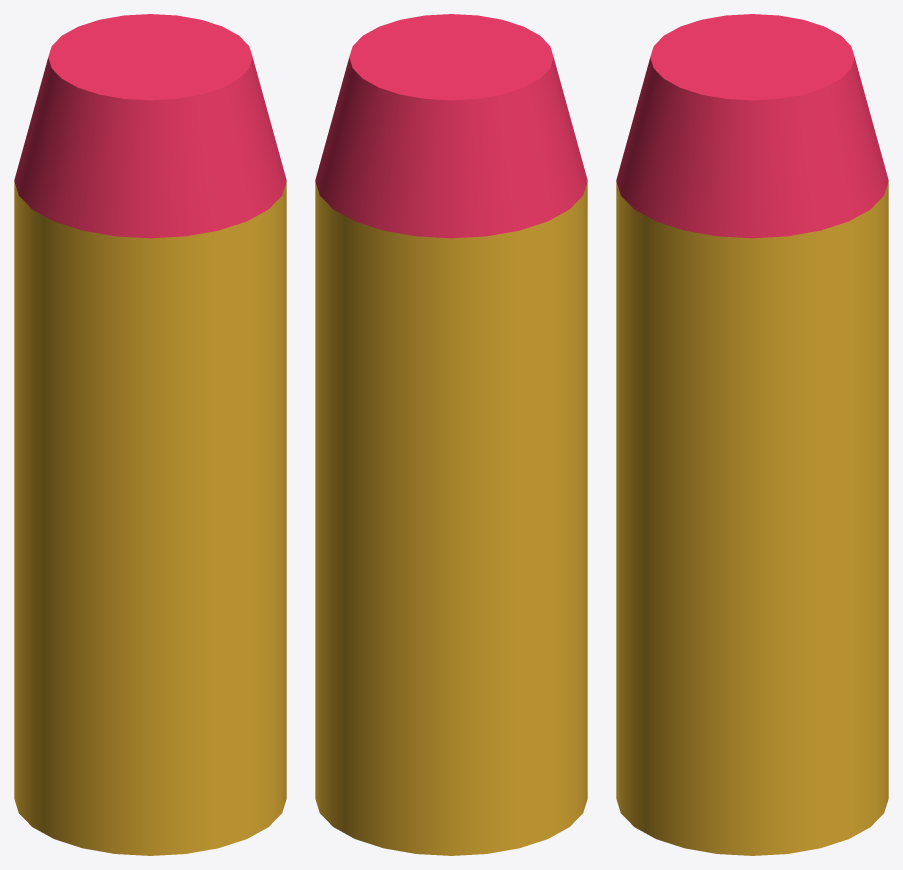
Rendered from foamBulletB.obj.
3 renders of one model, left to right at view 1: azimuth 30°, elevation 25°; view 2: azimuth 150°, elevation 25°; view 3: azimuth 270°, elevation 25°, orthographic.
Parts seen in each view (by area): view 1: foamBulletB; view 2: foamBulletB; view 3: foamBulletB.
Part boxes in pixels (box(x1,y1,x2,y2)): foamBulletB: box(14, 14, 286, 855); foamBulletB: box(315, 14, 587, 855); foamBulletB: box(616, 14, 888, 855).
Bounding box in the file's own units: 0.02 × 0.06 × 0.02.
